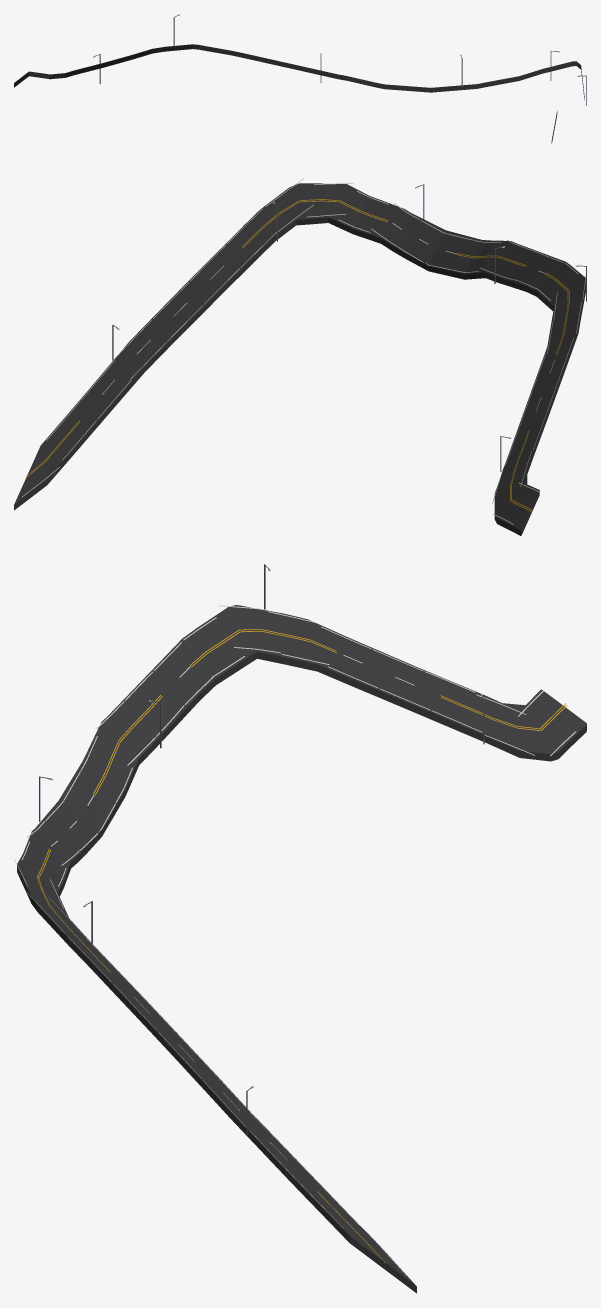
3 views of the same model, one above another, from view 1: azimuth 30°, elevation 25°; view 2: azimuth 150°, elevation 25°; view 3: azimuth 270°, elevation 25° (orthographic). The views are drawn at different scales.
Size of the model in its own units: 128 by 68.83 by 86.66.
